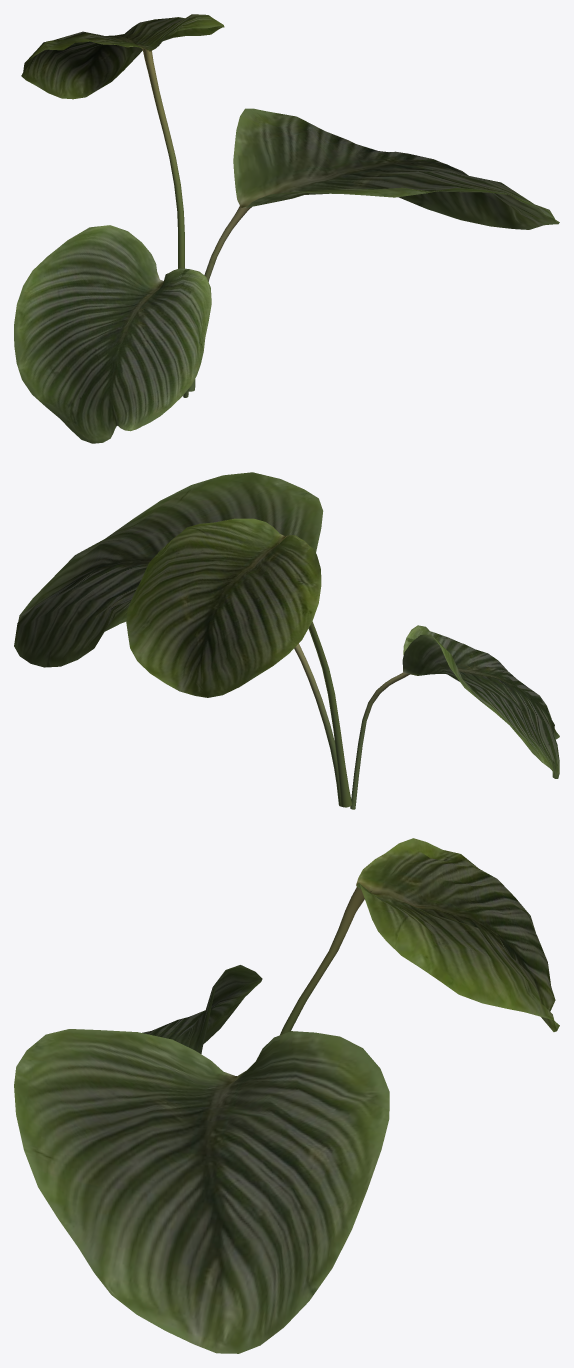
Rendered from calathea_orbifolia_01_b.gltf.
The picture shows the model from 3 angles, top to bottom: view 1: azimuth 30°, elevation 25°; view 2: azimuth 150°, elevation 25°; view 3: azimuth 270°, elevation 25°; orthographic projection. The views are drawn at different scales.
Parts seen in each view (by area): view 1: calathea_orbifolia_01_d; view 2: calathea_orbifolia_01_d; view 3: calathea_orbifolia_01_d.
Boxes of the visible parts, box(x1,y1,x2,y2) form: calathea_orbifolia_01_d: box(14, 14, 559, 443); calathea_orbifolia_01_d: box(14, 472, 559, 809); calathea_orbifolia_01_d: box(14, 838, 559, 1353).
Bounding box in the file's own units: 0.2264 × 0.1304 × 0.1631.
Materials: 1 (1 with a texture image).
